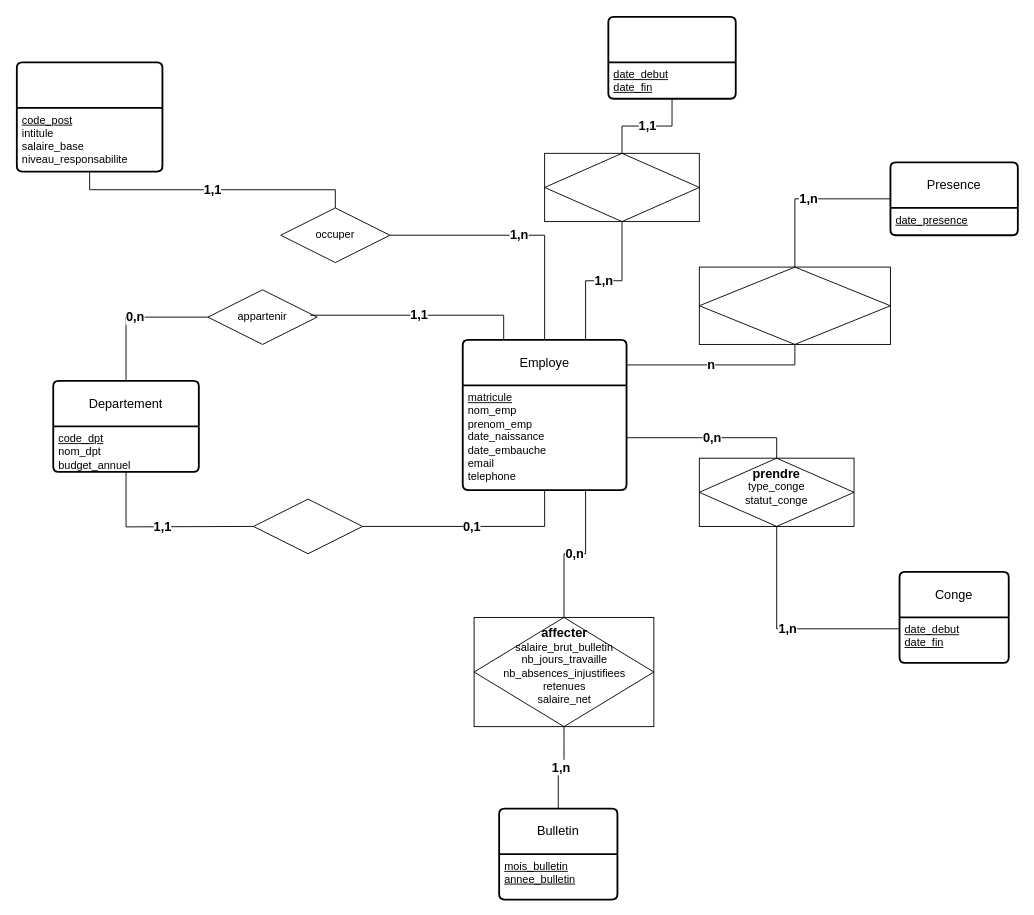
Image size: 1034x915. Some labels were removed from this diagram. The box of each missing label's shape, as (x1, y1, x2, y2) in pixels:
Contrat: (607, 15, 736, 99)
diriger: (253, 498, 363, 554)
posseder heure_arrivee heure_depart statut_presence: (698, 266, 890, 344)
Poste: (15, 61, 163, 172)
signer type_contrat salaire_brut_contrat: (544, 152, 699, 222)
